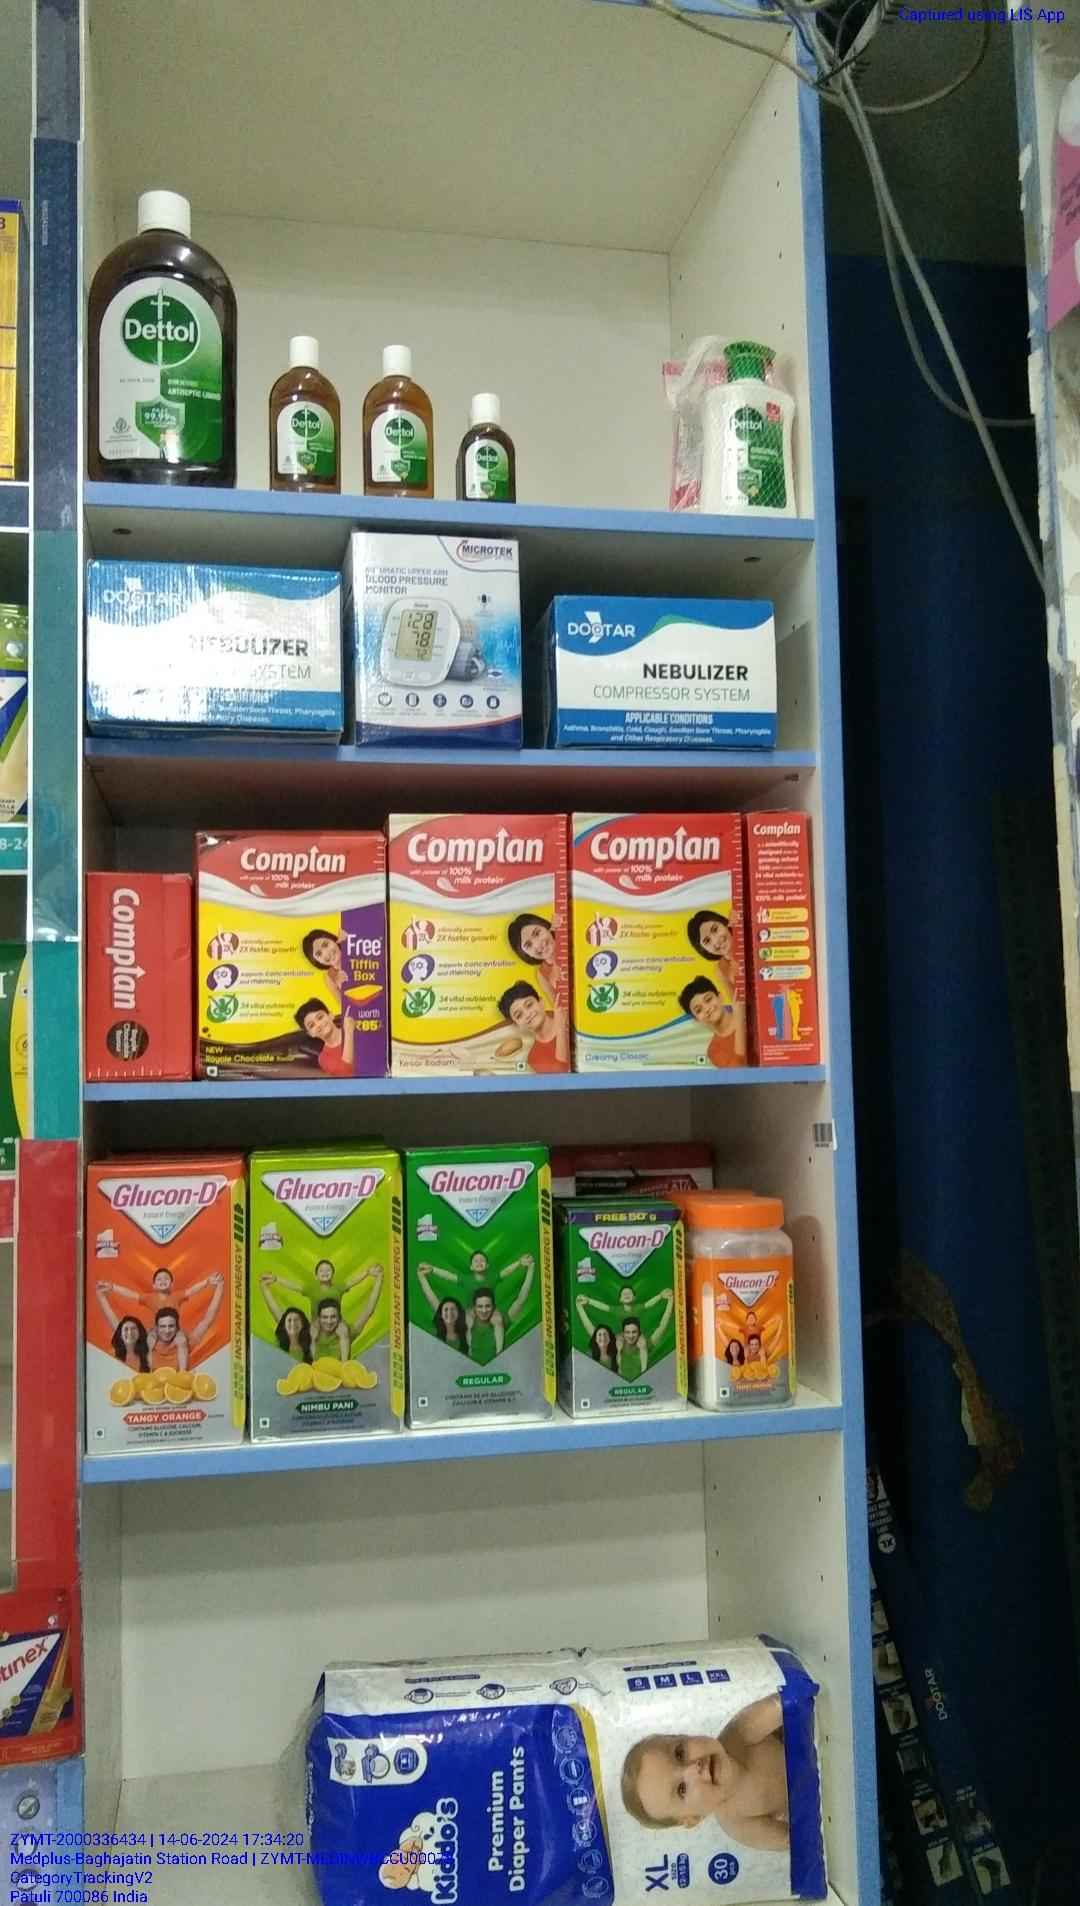COMPLAN_CHOCOLATE_500_GMS_PACK: (198, 831, 385, 1080)
COMPLAN_CREAMY_CLASSIC_500_G_PACK: (576, 816, 745, 1070)
COMPLAN_KESAR_BADAM_500_GMS_PACK: (393, 813, 571, 1075)
